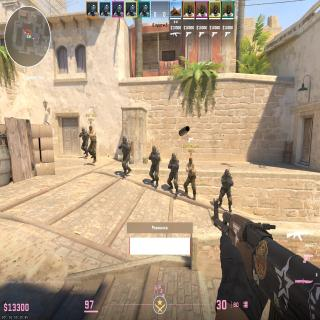CT-Body: (218, 168, 234, 212), (118, 136, 132, 176), (168, 152, 180, 195), (148, 146, 160, 188), (81, 128, 89, 158)
CT-Head: (122, 136, 128, 144), (171, 153, 176, 161), (152, 145, 156, 154), (225, 169, 229, 178), (82, 127, 85, 133)
T-Body: (184, 157, 197, 200), (88, 125, 97, 163)
T-Head: (189, 158, 193, 165), (89, 125, 92, 132)
